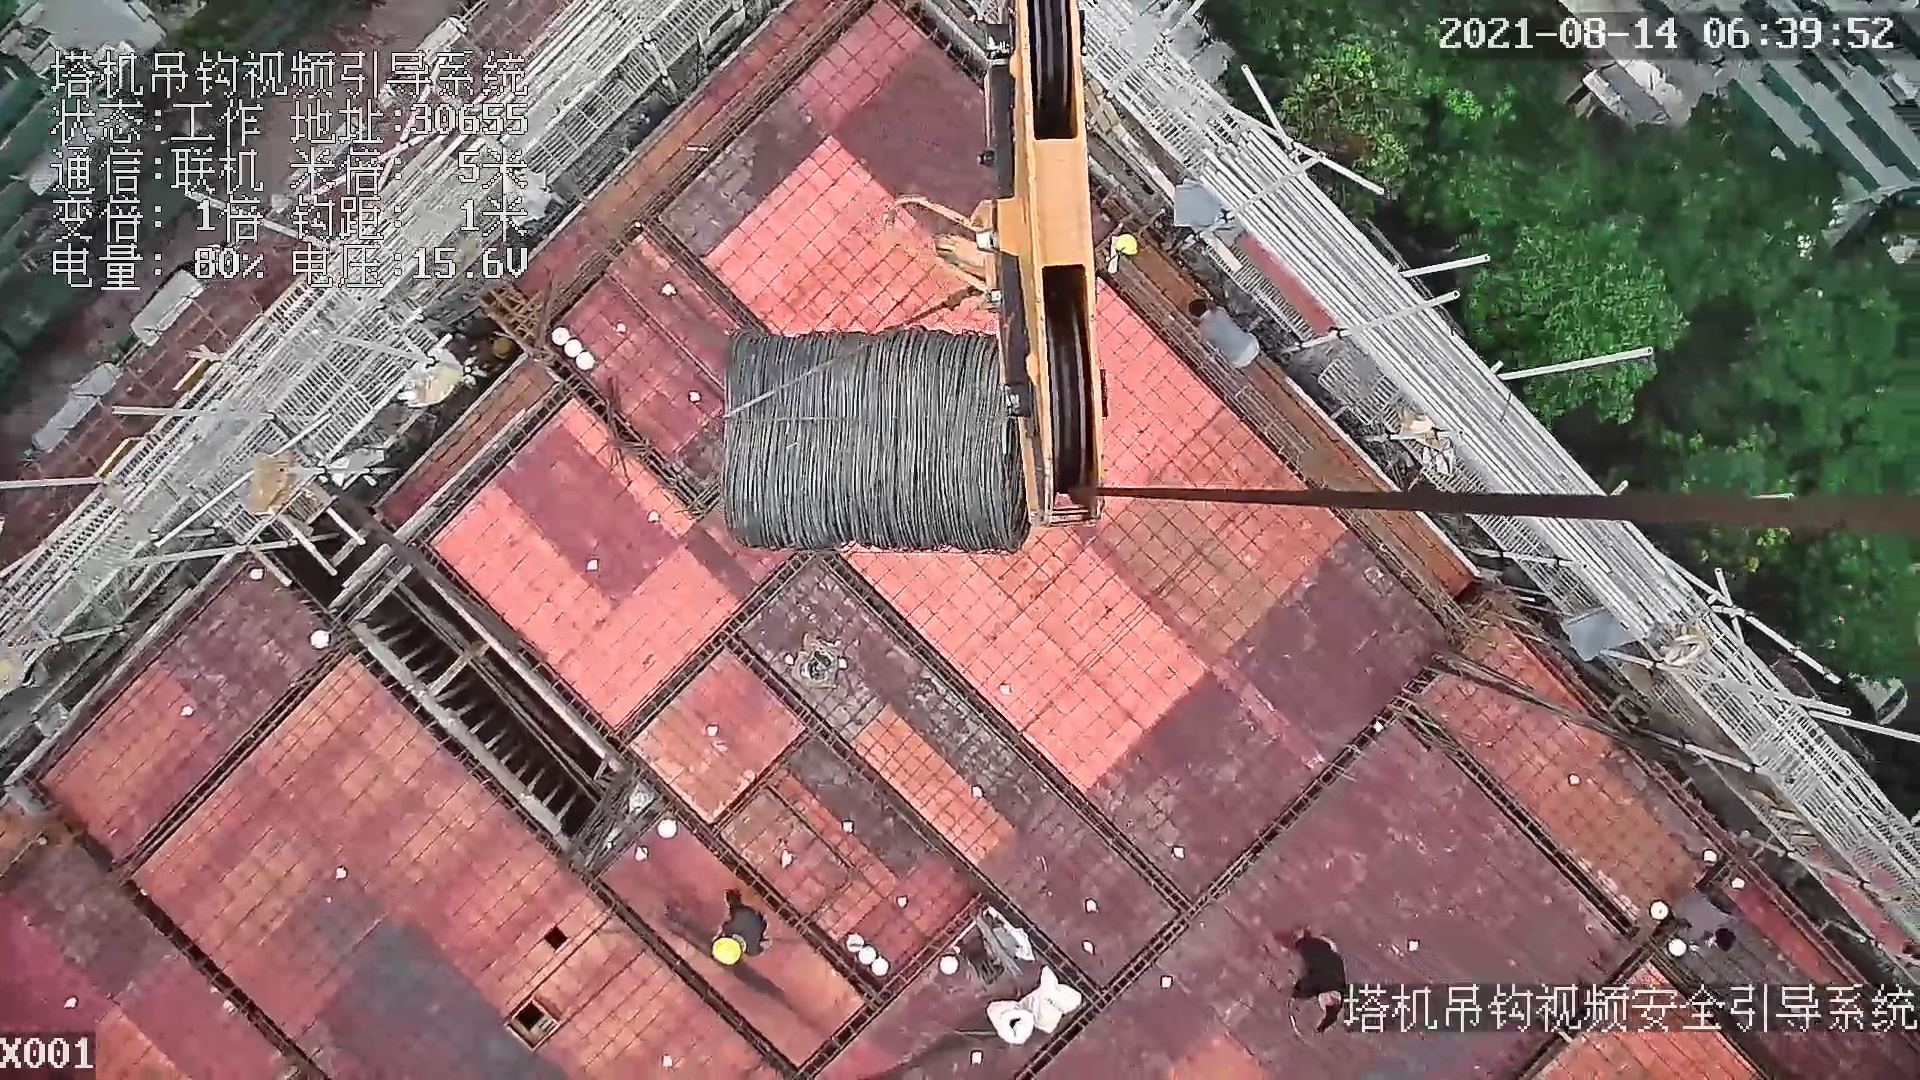helmet: (707, 930, 749, 980)
hook: (881, 1, 1100, 532)
person: (1282, 921, 1353, 1044), (1190, 291, 1260, 374), (709, 889, 777, 965)
